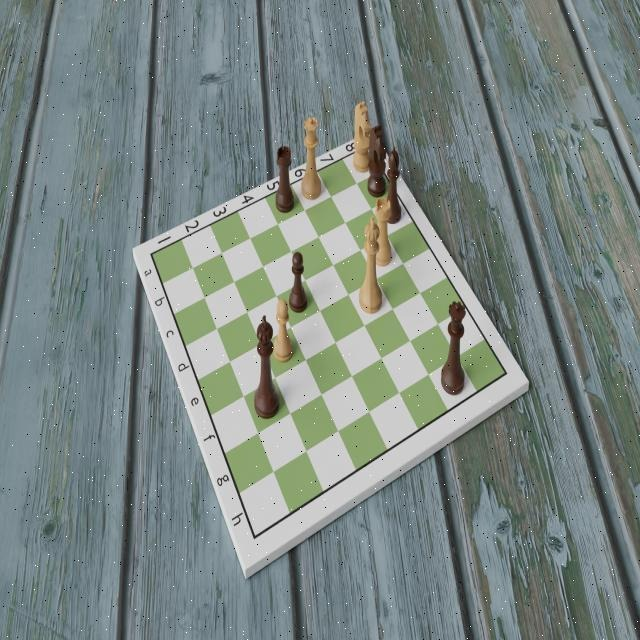black-bishop: (384, 144, 403, 227)
black-king: (249, 313, 283, 423)
black-knight: (365, 120, 386, 201)
black-pawn: (282, 244, 313, 316)
black-queen: (440, 296, 468, 404)
black-rook: (274, 144, 296, 220)
white-king: (356, 211, 387, 317)
white-knight: (349, 98, 375, 174)
white-pawn: (271, 295, 292, 360)
white-queen: (299, 108, 324, 208)
white-rook: (373, 193, 395, 270)
